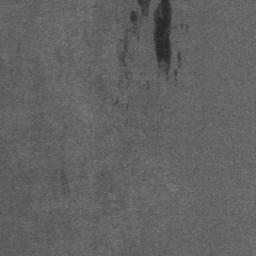Iron scale compression: (155, 0, 172, 80), (120, 31, 132, 85), (130, 12, 140, 36), (139, 0, 151, 18), (177, 52, 182, 69)
